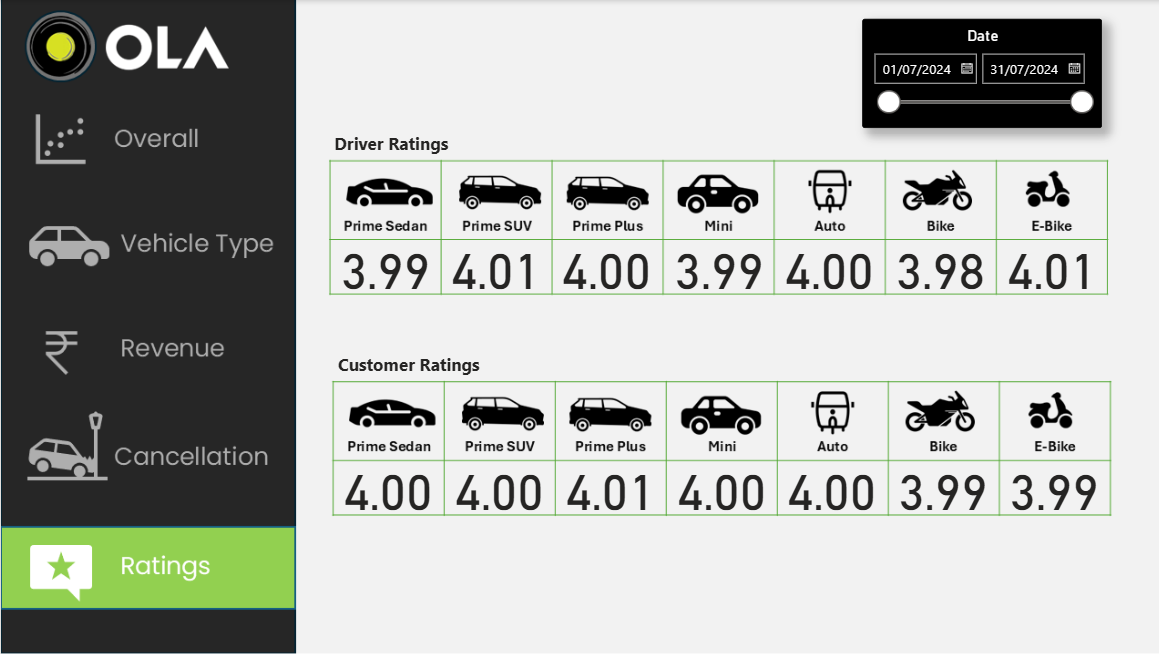

This screenshot's page, from the dashboard's own definition file:
{"tool":"powerbi","page":{"name":"Ratings","canvas":[1280,720],"ordinal":4},"visuals":[{"type":"actionButton","box":[0,222,324.5,90.5],"z":0},{"type":"actionButton","box":[0,336.6,324.5,90.5],"z":1000},{"type":"actionButton","box":[0,447.6,324.5,90.5],"z":2000},{"type":"actionButton","box":[0,113.4,324.5,90.5],"z":3000},{"type":"card","fields":{"Values":["Avg(July.Driver_Ratings)"]},"box":[366.2,263.2,111.6,60.1],"z":4000},{"type":"card","fields":{"Values":["Avg(July.Driver_Ratings)"]},"box":[487.8,263.2,111.6,60.1],"z":5000},{"type":"card","fields":{"Values":["Avg(July.Driver_Ratings)"]},"box":[854,263.2,111.6,60.1],"z":6000},{"type":"card","fields":{"Values":["Avg(July.Driver_Ratings)"]},"box":[975.6,263.2,111.6,60.1],"z":7000},{"type":"card","fields":{"Values":["Avg(July.Driver_Ratings)"]},"box":[1097.2,263.2,111.6,60.1],"z":8000},{"type":"card","fields":{"Values":["Avg(July.Driver_Ratings)"]},"box":[603.7,263.2,121.6,60.1],"z":9000},{"type":"card","fields":{"Values":["Avg(July.Driver_Ratings)"]},"box":[732.4,263.2,111.6,60.1],"z":10000},{"type":"textbox","box":[360.5,140.2,135.9,35.8],"z":11000},{"type":"textbox","box":[364.8,383.4,177.4,35.8],"z":12000},{"type":"card","fields":{"Values":["Avg(July.Customer_Rating)"]},"box":[369.1,506.4,111.6,60.1],"z":13000},{"type":"card","fields":{"Values":["Avg(July.Customer_Rating)"]},"box":[490.7,506.4,111.6,60.1],"z":14000},{"type":"card","fields":{"Values":["Avg(July.Customer_Rating)"]},"box":[608,506.4,121.6,60.1],"z":15000},{"type":"card","fields":{"Values":["Avg(July.Customer_Rating)"]},"box":[735.3,506.4,111.6,60.1],"z":16000},{"type":"card","fields":{"Values":["Avg(July.Customer_Rating)"]},"box":[856.9,506.4,111.6,60.1],"z":17000},{"type":"card","fields":{"Values":["Avg(July.Customer_Rating)"]},"box":[978.5,506.4,111.6,60.1],"z":18000},{"type":"card","fields":{"Values":["Avg(July.Customer_Rating)"]},"box":[1100,506.4,111.6,60.1],"z":19000},{"type":"slicer","title":"Date","fields":{"Values":["July.Date"]},"box":[945.6,20,263.2,120.2],"z":20000}]}

Visuals, with their boxes on the page's 1280x720 design canvas (x1, y1, x2, y2). These are canvas units, not pixel positions in the 1159x654 screenshot, which may show the page scaled, cropped or inside an application window:
actionButton: [left=0, top=222, right=324, bottom=312]
actionButton: [left=0, top=337, right=324, bottom=427]
actionButton: [left=0, top=448, right=324, bottom=538]
actionButton: [left=0, top=113, right=324, bottom=204]
card - Avg(July.Driver_Ratings): [left=366, top=263, right=478, bottom=323]
card - Avg(July.Driver_Ratings): [left=488, top=263, right=599, bottom=323]
card - Avg(July.Driver_Ratings): [left=854, top=263, right=966, bottom=323]
card - Avg(July.Driver_Ratings): [left=976, top=263, right=1087, bottom=323]
card - Avg(July.Driver_Ratings): [left=1097, top=263, right=1209, bottom=323]
card - Avg(July.Driver_Ratings): [left=604, top=263, right=725, bottom=323]
card - Avg(July.Driver_Ratings): [left=732, top=263, right=844, bottom=323]
textbox: [left=360, top=140, right=496, bottom=176]
textbox: [left=365, top=383, right=542, bottom=419]
card - Avg(July.Customer_Rating): [left=369, top=506, right=481, bottom=566]
card - Avg(July.Customer_Rating): [left=491, top=506, right=602, bottom=566]
card - Avg(July.Customer_Rating): [left=608, top=506, right=730, bottom=566]
card - Avg(July.Customer_Rating): [left=735, top=506, right=847, bottom=566]
card - Avg(July.Customer_Rating): [left=857, top=506, right=968, bottom=566]
card - Avg(July.Customer_Rating): [left=978, top=506, right=1090, bottom=566]
card - Avg(July.Customer_Rating): [left=1100, top=506, right=1212, bottom=566]
"Date" slicer: [left=946, top=20, right=1209, bottom=140]
